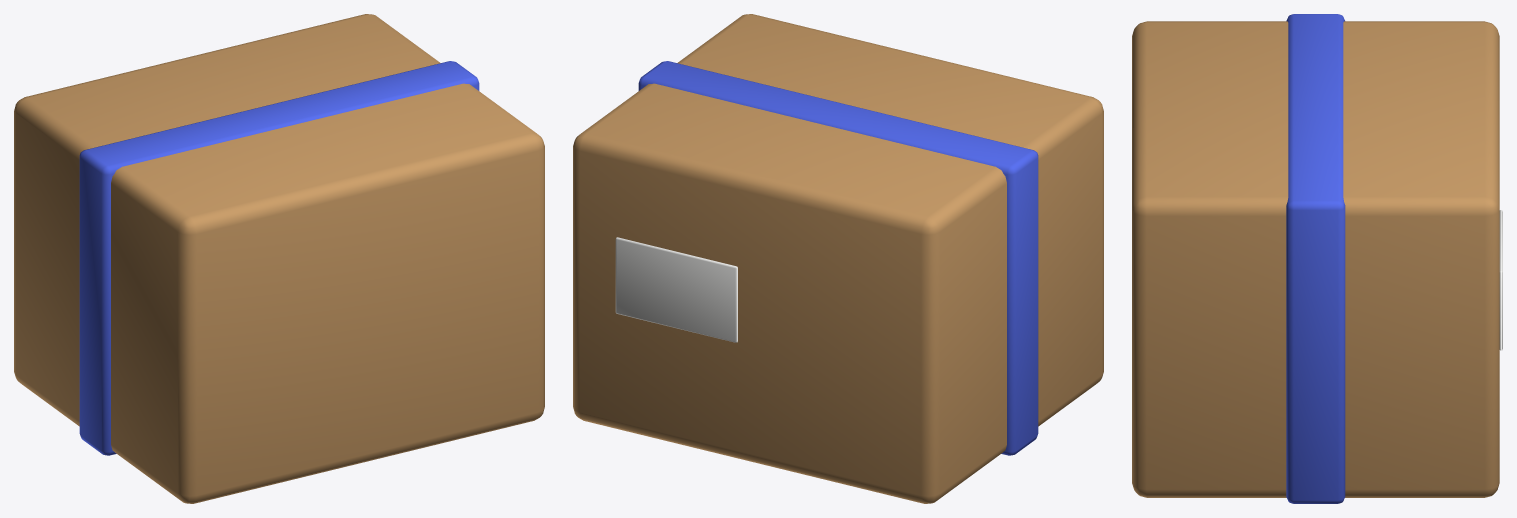
The picture shows the model from 3 angles, left to right: view 1: azimuth 30°, elevation 25°; view 2: azimuth 150°, elevation 25°; view 3: azimuth 270°, elevation 25°; orthographic projection. The views are drawn at different scales.
Visible parts, largest first — view 1: box, tape; view 2: box, tape, label; view 3: box, tape, label.
Part boxes in pixels (box(x1,y1,x2,y2)): box: box(14, 14, 544, 503); tape: box(79, 61, 479, 455); box: box(573, 14, 1103, 503); tape: box(638, 61, 1038, 455); label: box(615, 237, 737, 342); box: box(1132, 21, 1499, 497); tape: box(1286, 14, 1345, 503); label: box(1499, 210, 1502, 350).
Bounding box in the file's own units: 0.62 × 0.455 × 0.5045.
